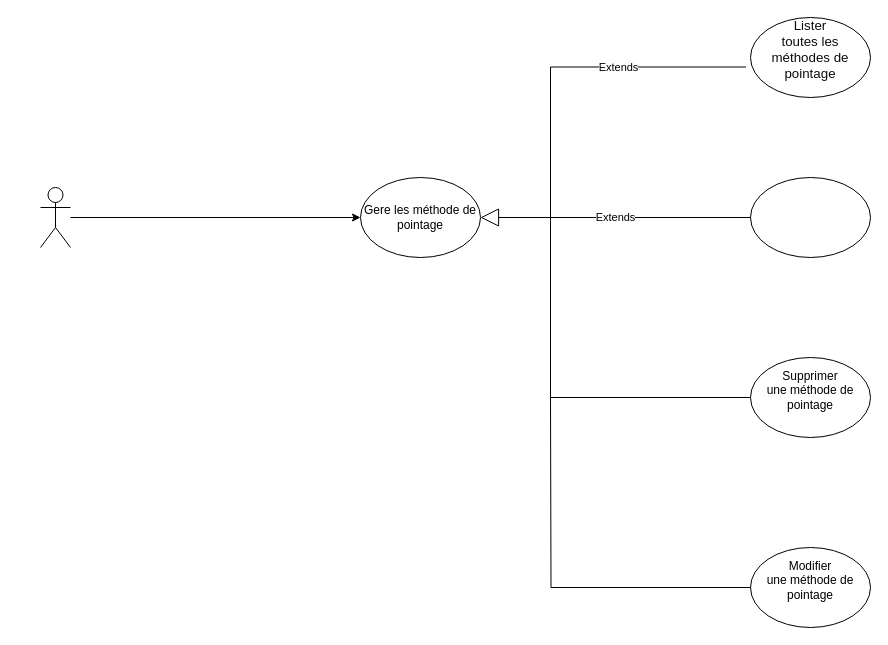
This 888x645 diagram has some shape labels left out. The shapes that lost their labels are listed below. From the top down, each one's centre as x and y in pixels, then its label:
At [55,217]: "Administrateur".
At [810,217]: "Assigner une méthode de pointage à un employé".
